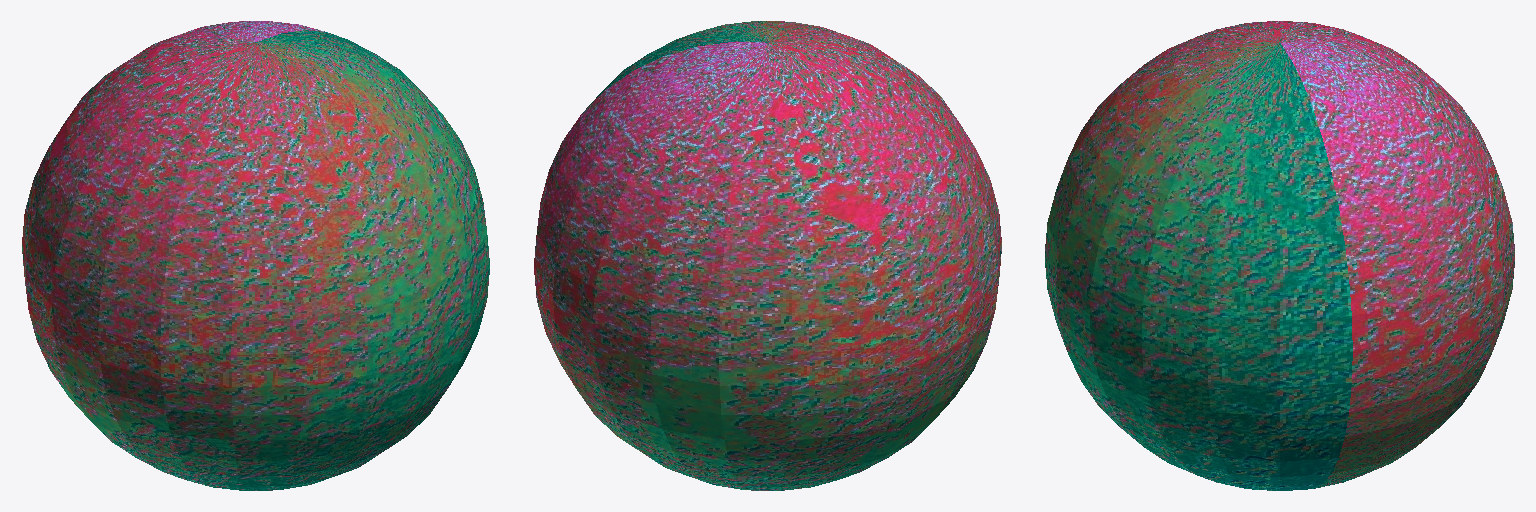
3 renders of one model, left to right at view 1: azimuth 30°, elevation 25°; view 2: azimuth 150°, elevation 25°; view 3: azimuth 270°, elevation 25°, orthographic.
Size of the model in its own units: 25.14 by 25.14 by 25.14.
Materials: 1 (1 with a texture image).